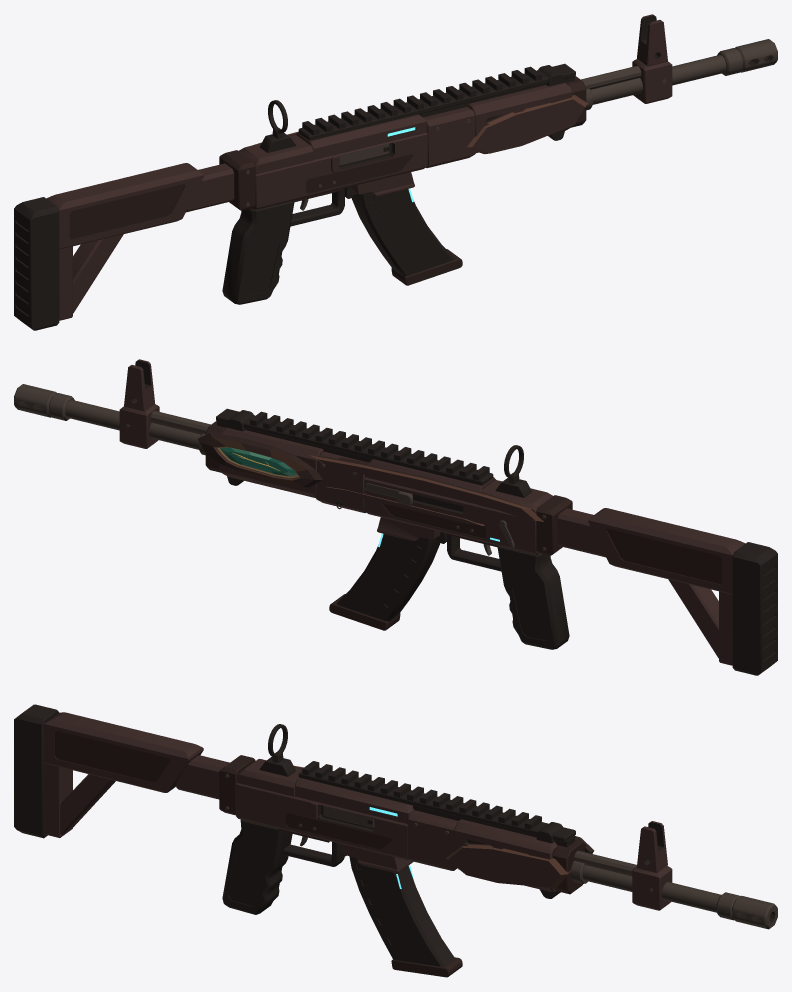
The model's file is Vandal_Rootglass_v02.fbx.
3 renders of one model, top to bottom at view 1: azimuth 30°, elevation 25°; view 2: azimuth 150°, elevation 25°; view 3: azimuth 330°, elevation 25°, orthographic.
Visible parts, largest first — view 1: Vandal_Stock, Vandal_Receiver, Vandal_Grip, Vandal_Mag, Vandal_Rail, Vandal_Barrel, Rootglass_RightWalnutCheek, Vandal_Handguard, Vandal_FrontSight, Vandal_RearSight, Vandal_Bolt; view 2: Vandal_Stock, Vandal_Receiver, Vandal_Grip, Vandal_Mag, Vandal_Rail, Vandal_Barrel, Rootglass_UpperWalnutLeaf, Vandal_FrontSight, Rootglass_Left_CarvedShell, Vandal_Handguard, Rootglass_Left_FacetedMineral, Vandal_RearSight (+1 smaller); view 3: Vandal_Stock, Vandal_Receiver, Vandal_Mag, Vandal_Rail, Vandal_Grip, Vandal_Barrel, Rootglass_RightWalnutCheek, Vandal_Handguard, Vandal_FrontSight, Vandal_RearSight, Vandal_Bolt.
Boxes of the visible parts, bbox=[...] form: Vandal_Stock: bbox=[14, 163, 234, 330]; Vandal_Receiver: bbox=[219, 106, 477, 210]; Vandal_Grip: bbox=[222, 188, 344, 304]; Vandal_Mag: bbox=[351, 189, 462, 285]; Vandal_Rail: bbox=[298, 63, 575, 140]; Vandal_Barrel: bbox=[581, 39, 777, 104]; Rootglass_RightWalnutCheek: bbox=[467, 95, 588, 154]; Vandal_Handguard: bbox=[468, 76, 592, 152]; Vandal_FrontSight: bbox=[632, 14, 672, 103]; Vandal_RearSight: bbox=[260, 100, 296, 152]; Vandal_Bolt: bbox=[339, 143, 389, 165]; Vandal_Stock: bbox=[557, 508, 777, 675]; Vandal_Receiver: bbox=[314, 451, 572, 555]; Vandal_Grip: bbox=[447, 533, 569, 649]; Vandal_Mag: bbox=[329, 534, 440, 630]; Vandal_Rail: bbox=[216, 408, 493, 485]; Vandal_Barrel: bbox=[14, 384, 210, 449]; Rootglass_UpperWalnutLeaf: bbox=[309, 455, 543, 521]; Vandal_FrontSight: bbox=[119, 359, 159, 448]; Rootglass_Left_CarvedShell: bbox=[197, 431, 322, 487]; Vandal_Handguard: bbox=[199, 421, 323, 497]; Rootglass_Left_FacetedMineral: bbox=[220, 447, 296, 476]; Vandal_RearSight: bbox=[495, 445, 531, 497]; Vandal_Stock: bbox=[14, 704, 229, 838]; Vandal_Receiver: bbox=[219, 755, 458, 873]; Vandal_Mag: bbox=[349, 856, 462, 977]; Vandal_Rail: bbox=[298, 761, 575, 847]; Vandal_Grip: bbox=[222, 819, 344, 914]; Vandal_Barrel: bbox=[574, 850, 777, 929]; Rootglass_RightWalnutCheek: bbox=[446, 843, 571, 887]; Vandal_Handguard: bbox=[454, 819, 587, 898]; Vandal_FrontSight: bbox=[632, 821, 672, 910]; Vandal_RearSight: bbox=[259, 724, 296, 776]; Vandal_Bolt: bbox=[323, 805, 374, 827].
Bounding box in the file's own units: 390 × 104 × 23.7.
